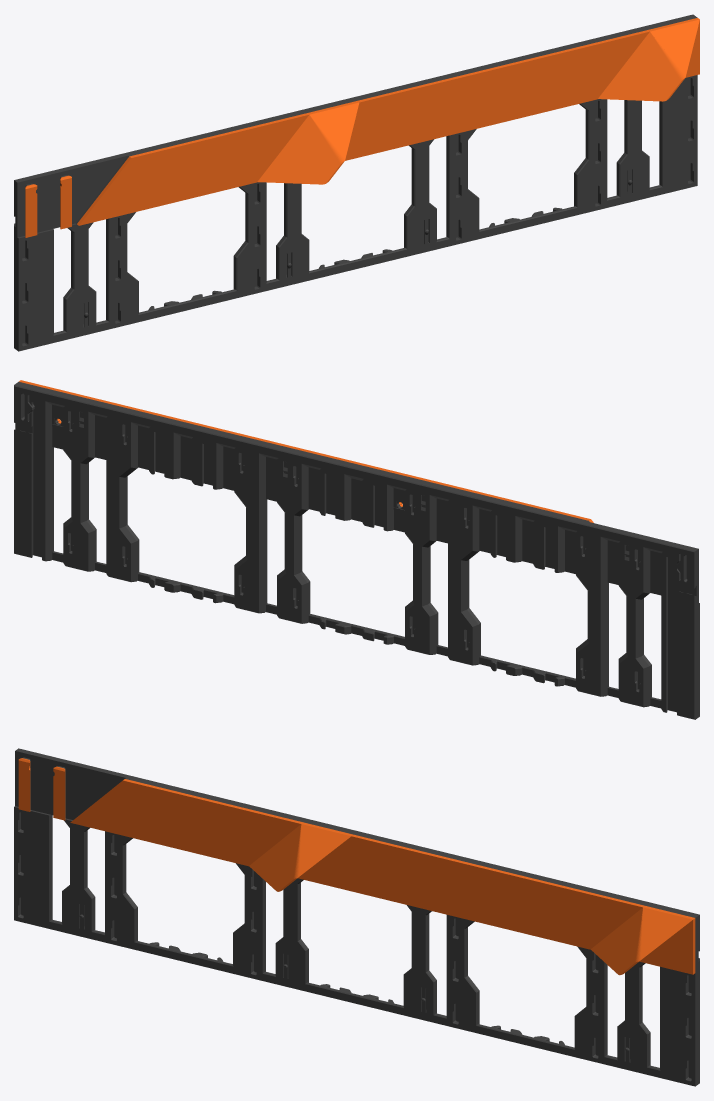
File: Faceplate_EdgeLabel_4W-15H.lib.glb
3 renders of one model, top to bottom at view 1: azimuth 30°, elevation 25°; view 2: azimuth 150°, elevation 25°; view 3: azimuth 330°, elevation 25°, orthographic.
Visible parts, largest first — view 1: Faceplate_EdgeLabel_4W-15H; view 2: Faceplate_EdgeLabel_4W-15H; view 3: Faceplate_EdgeLabel_4W-15H.
Boxes of the visible parts, x1,y1,x2,y2 form: Faceplate_EdgeLabel_4W-15H: (14,14,699,351); Faceplate_EdgeLabel_4W-15H: (14,380,699,719); Faceplate_EdgeLabel_4W-15H: (14,748,699,1086).
Bounding box in the file's own units: 351 × 83 × 24.08.
